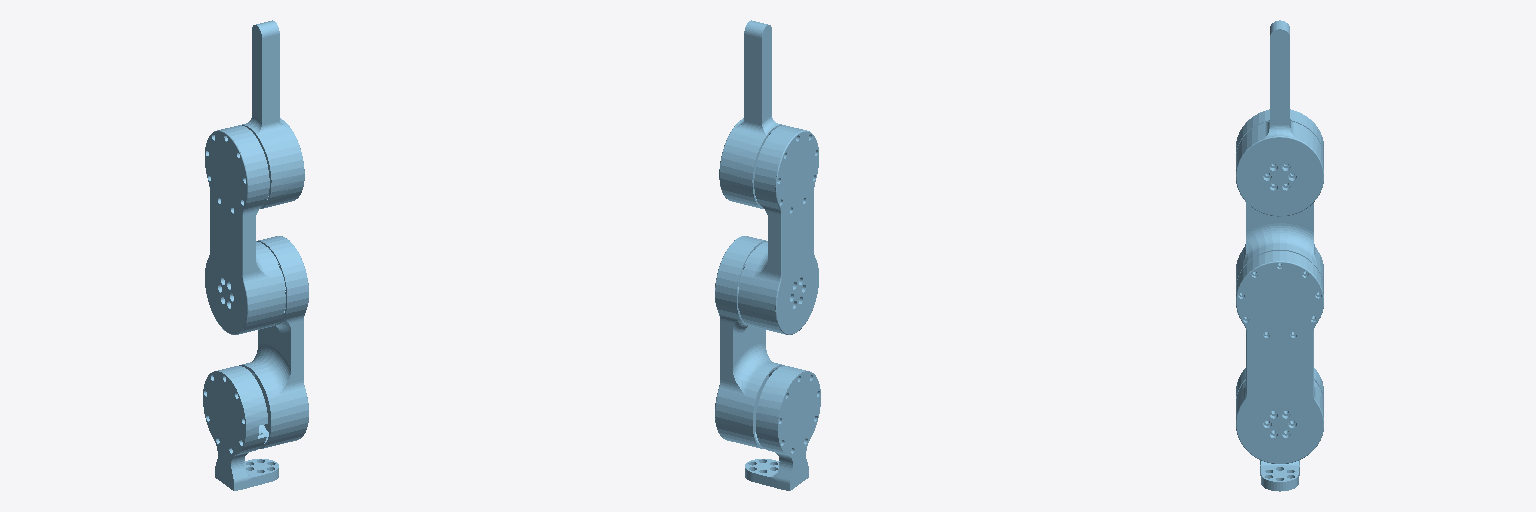
The robot description file, URDF, robot "cyberarm":
<?xml version='1.0' encoding='utf-8'?>
<robot name="cyberarm">
  <link name="base_link">
    <visual>
      <origin xyz="0 0 0" rpy="0 0 0"/>
      <geometry>
        <mesh filename="package://cyberarm/models/meshes/Base.dae"/>
      </geometry>
    </visual>
  </link>

  <link name="arm1_link">
    <visual>
      <origin xyz="-0.026683 0 0.07674" rpy="0 1.5708 0"/>
      <geometry>
        <mesh filename="package://cyberarm/models/meshes/Joint1.dae"/>
      </geometry>
    </visual>
  </link>

  <link name="arm2_link">
    <visual>
      <origin xyz="0 0 0" rpy="0 -1.5708 3.14159"/>
      <geometry>
        <mesh filename="package://cyberarm/models/meshes/JointArm.dae"/>
      </geometry>
    </visual>
  </link>

  <link name="arm3_link">
    <visual>
      <origin xyz="0 0 0" rpy="0 -1.5708 0"/>
      <geometry>
        <mesh filename="package://cyberarm/models/meshes/JointArm.dae"/>
      </geometry>
    </visual>
  </link>

  <link name="end_effector_link">
    <visual>
      <origin xyz="0 0 0" rpy="3.14159 -1.5708 0"/>
      <geometry>
        <mesh filename="package://cyberarm/models/meshes/EndEffector.dae"/>
      </geometry>
    </visual>
  </link>

  <joint name="base_to_arm1_joint" type="revolute">
    <origin xyz="0 0 0.03821" rpy="0 0 0"/>
    <parent link="base_link"/>
    <child link="arm1_link"/>
    <axis xyz="0 0 1"/>
    <limit effort="87" lower="-3.14" upper="3.14" velocity="100"/>
  </joint>

  <joint name="arm1_to_arm2_joint" type="revolute">
    <origin xyz="0.015 0 0.07674" rpy="0 0 0"/>
    <parent link="arm1_link"/>
    <child link="arm2_link"/>
    <axis xyz="1 0 0"/>
    <limit effort="87" lower="-3.14" upper="3.14" velocity="100"/>
  </joint>

  <joint name="arm2_to_arm3_joint" type="revolute">
    <origin xyz="-0.04 0 0.129772" rpy="0 0 0"/>
    <parent link="arm2_link"/>
    <child link="arm3_link"/>
    <axis xyz="-1 0 0"/>
    <limit effort="87" lower="-3.14" upper="3.14" velocity="100"/>
  </joint>

  <joint name="arm3_to_end_effector_joint" type="revolute">
    <origin xyz="0.04 0 0.129772" rpy="0 0 0"/>
    <parent link="arm3_link"/>
    <child link="end_effector_link"/>
    <axis xyz="1 0 0"/>
    <limit effort="87" lower="-3.14" upper="3.14" velocity="100"/>
  </joint>
</robot>

--- Render facts (derived) ---
3 views of the same robot in one strip: view 1: azimuth 30°, elevation 25°; view 2: azimuth 150°, elevation 25°; view 3: azimuth 270°, elevation 25° (orthographic).
Model cyberarm with 5 links and 4 joints (4 revolute), rooted at base_link, posed every joint at zero.
Visible links, largest first — view 1: arm3_link, arm2_link, arm1_link, end_effector_link; view 2: arm3_link, arm2_link, arm1_link, end_effector_link; view 3: arm2_link, end_effector_link, arm3_link, arm1_link.
Boxes of the visible links, box(x1,y1,x2,y2) form: arm3_link: box(205, 125, 285, 334); arm2_link: box(239, 236, 308, 448); arm1_link: box(203, 366, 278, 490); end_effector_link: box(242, 20, 304, 208); arm3_link: box(738, 125, 818, 334); arm2_link: box(715, 236, 784, 448); arm1_link: box(745, 366, 820, 490); end_effector_link: box(719, 20, 781, 208); arm2_link: box(1236, 251, 1323, 463); end_effector_link: box(1236, 20, 1323, 216); arm3_link: box(1236, 109, 1323, 283); arm1_link: box(1236, 368, 1323, 491).
Bounding box of the posed robot: 0.0717 × 0.085 × 0.4876 m (x, y, z).
4 mesh visuals loaded from 4 distinct referenced files (3 Collada DAE); not drawn: 1 (reference not matched to a file when rendering).